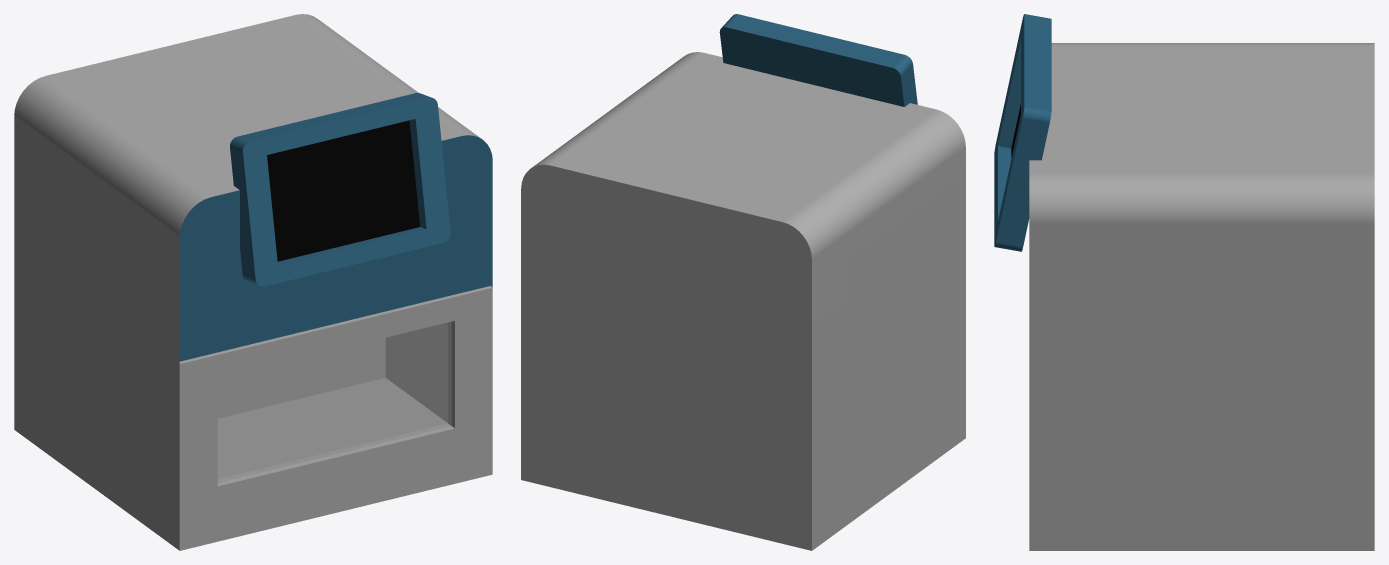
Rendered from 核酸扩增区仪器.fbx.
3 renders of one model, left to right at view 1: azimuth 30°, elevation 25°; view 2: azimuth 150°, elevation 25°; view 3: azimuth 270°, elevation 25°, orthographic. The views are drawn at different scales.
Parts seen in each view (by area): view 1: pCube1, pCube2, pCube4; view 2: pCube1, pCube2; view 3: pCube1, pCube2.
Part boxes in pixels (x1,y1,x2,y2): pCube1: (14,14,492,550); pCube2: (230,93,450,286); pCube4: (217,322,451,482); pCube1: (521,52,965,550); pCube2: (719,14,917,106); pCube1: (1029,43,1374,550); pCube2: (994,14,1051,251).
Size of the model in its own units: 1.66 by 2 by 1.67.
